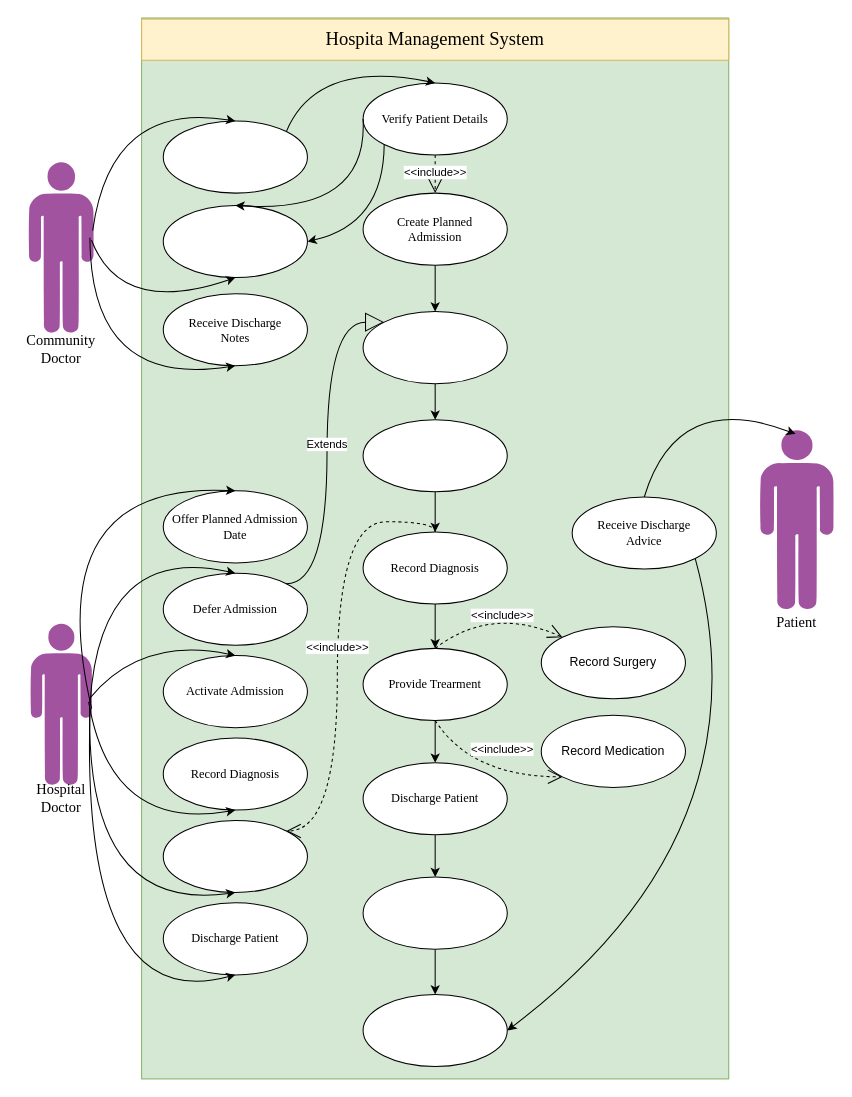
This 852x1097 diagram has some shape labels left out. Each missing label, with the centre of its shape:
"Activate Admission (On Arrival)" belongs at (x=434, y=455).
"Cancel Admission" belongs at (x=234, y=241).
"Offer Admission Date" belongs at (x=434, y=347).
"Prepare & Send Discharge Notes" belongs at (x=434, y=1030).
"Record Discharge Details" belongs at (x=434, y=912).
"Refer Patient" belongs at (x=234, y=156).
"Report Treatment Plan" belongs at (x=234, y=855).
